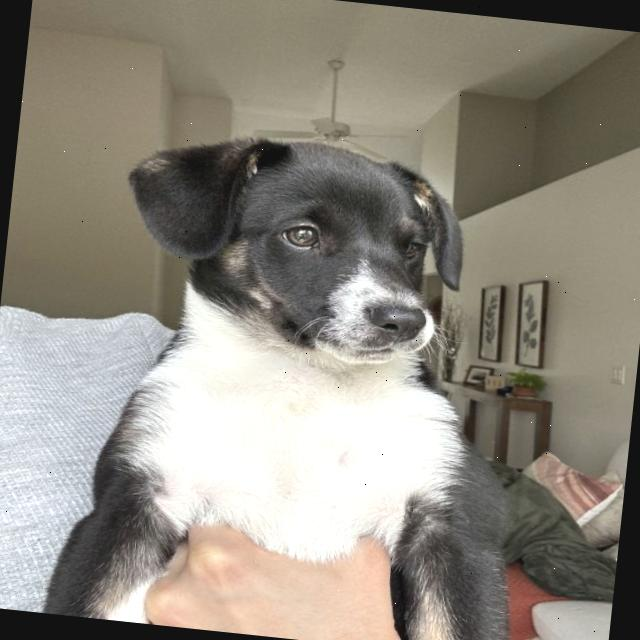corgi_dog: (87, 103, 504, 423)
